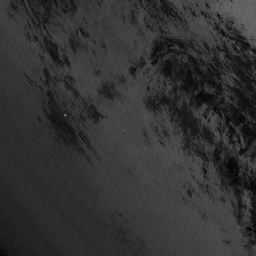Target: (62, 112, 67, 117)
